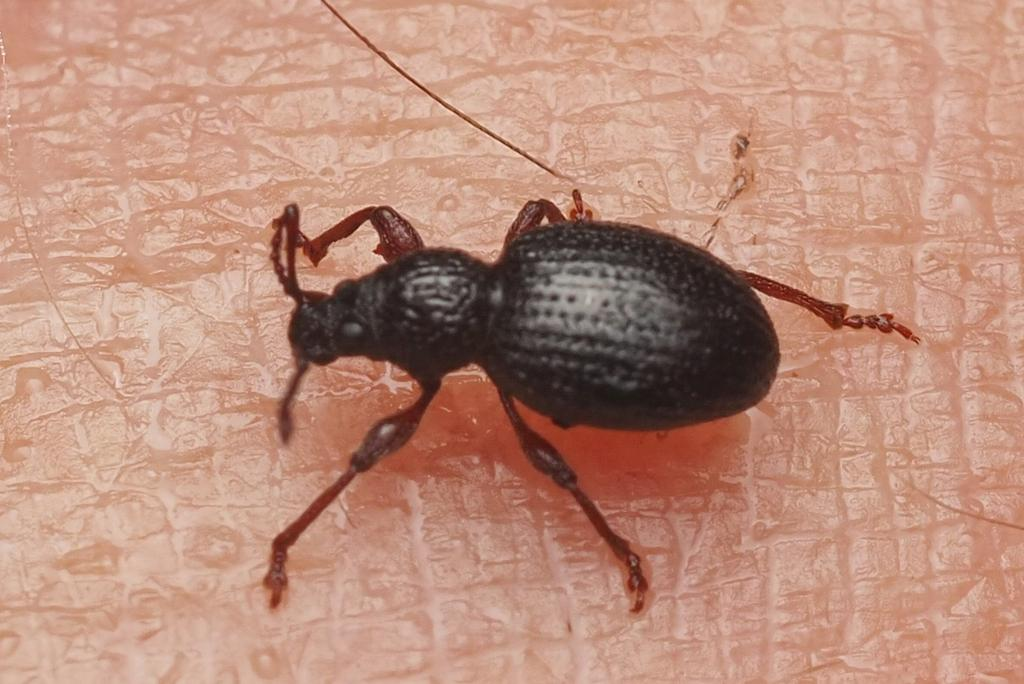weevils: (178, 145, 827, 663)
